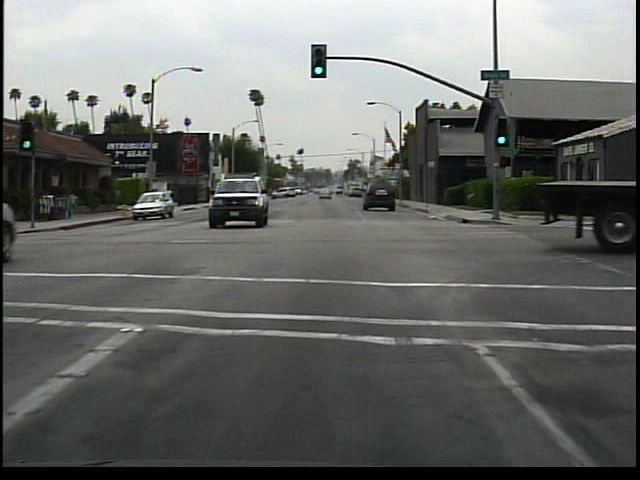person: (162, 183, 178, 207)
